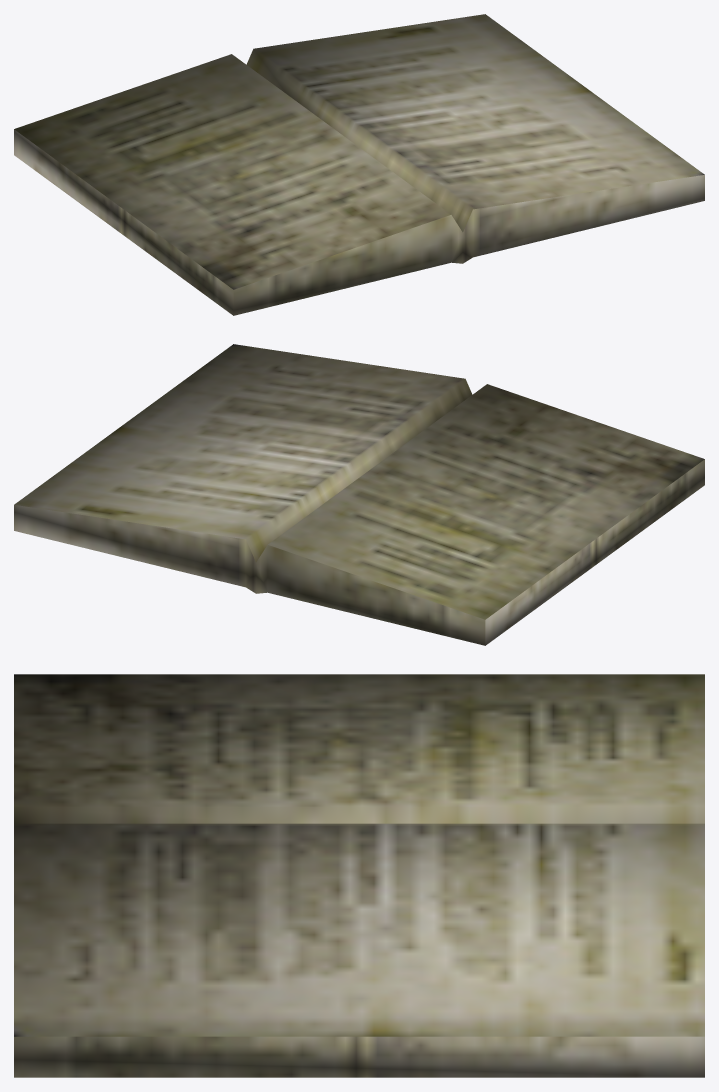
The model's file is M_Home_Garden_book.fbx.
The picture shows the model from 3 angles, top to bottom: view 1: azimuth 30°, elevation 25°; view 2: azimuth 150°, elevation 25°; view 3: azimuth 270°, elevation 25°; orthographic projection. The views are drawn at different scales.
Visible parts, largest first — view 1: M_Home_Garden_book; view 2: M_Home_Garden_book; view 3: M_Home_Garden_book.
Boxes of the visible parts, x1,y1,x2,y2 form: M_Home_Garden_book: [14, 14, 704, 315]; M_Home_Garden_book: [14, 344, 704, 645]; M_Home_Garden_book: [14, 674, 704, 1077].
Bounding box in the file's own units: 63.47 × 6.68 × 51.2.
